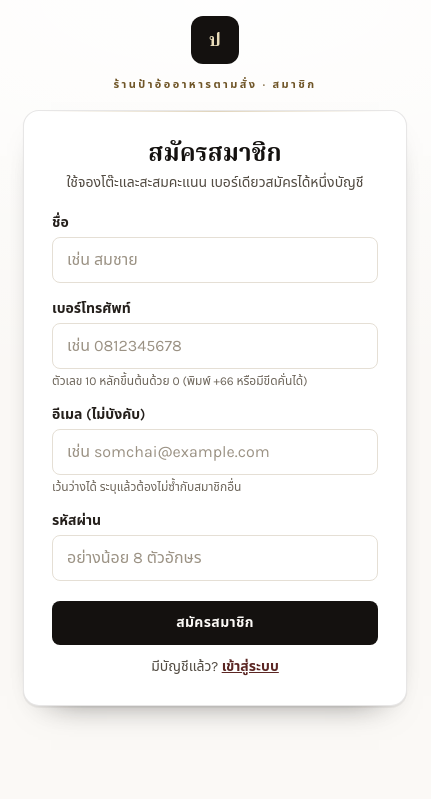
Test case: หน้าสมัครสมาชิก (ภาษาไทย) › เบอร์ซ้ำแสดงข้อความผิดพลาดภาษาไทยจาก server (แนบ CSRF)
In the field labelled "ชื่อ": (215, 260) [52,237,378,283], type "สมชาย"
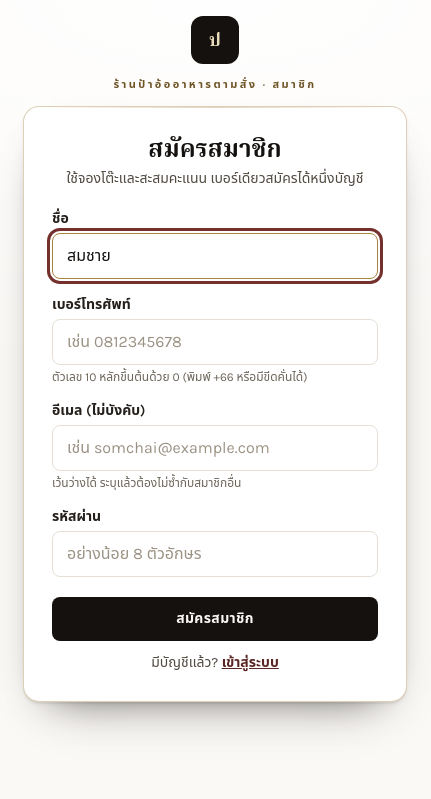
In the field labelled "เบอร์โทรศัพท์": (215, 342) [52,319,378,365], type "0812345678"
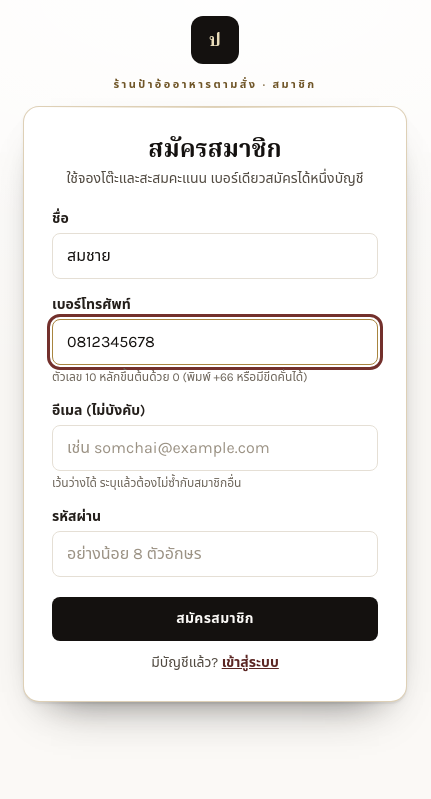
In the password field labelled "รหัสผ่าน": (215, 554) [52,531,378,577], type "Password11"
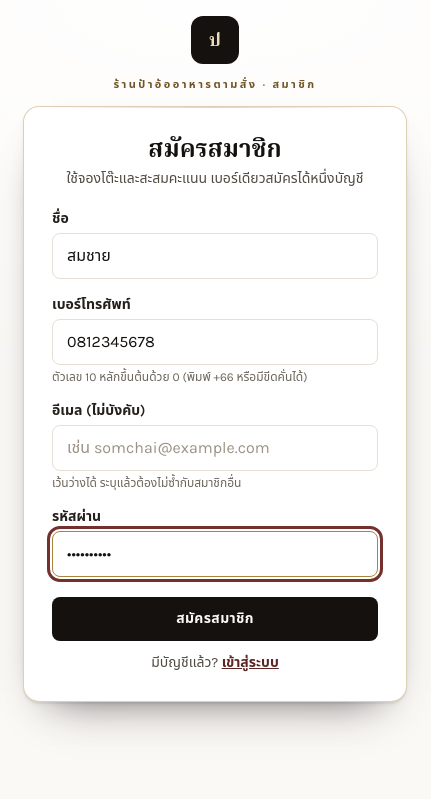
Click the button "สมัครสมาชิก": (215, 619) [52,597,378,641]
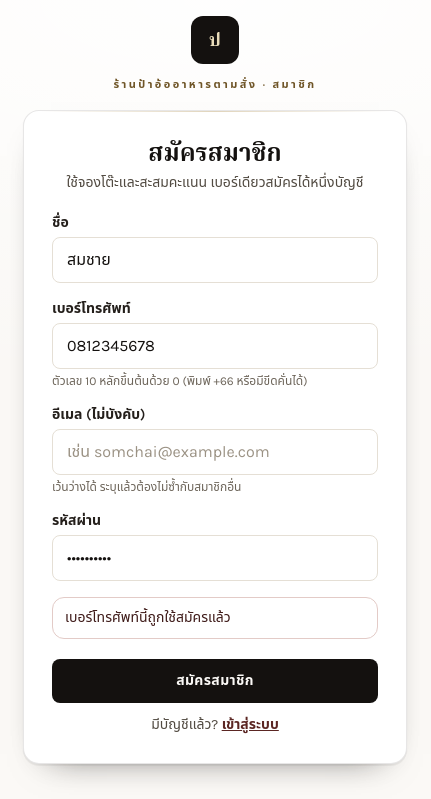
Now the message reads "เบอร์โทรศัพท์นี้ถูกใช้สมัครแล้ว", box [65,609,231,626]
